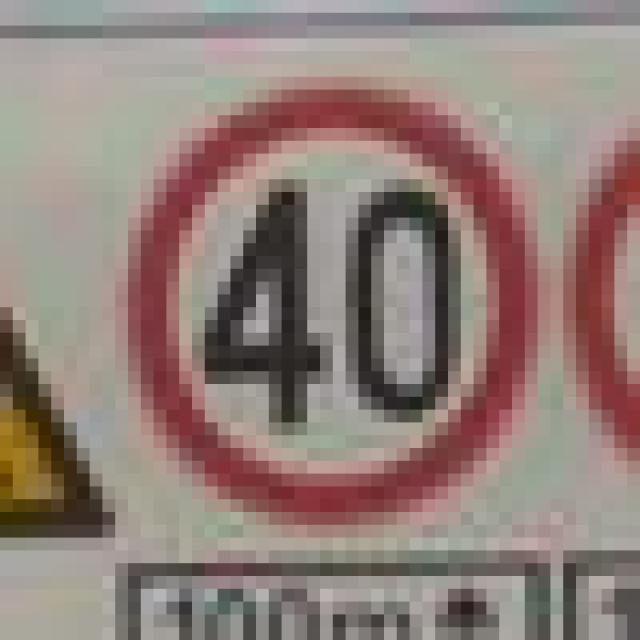falling_rocks: (102, 51, 538, 512)
